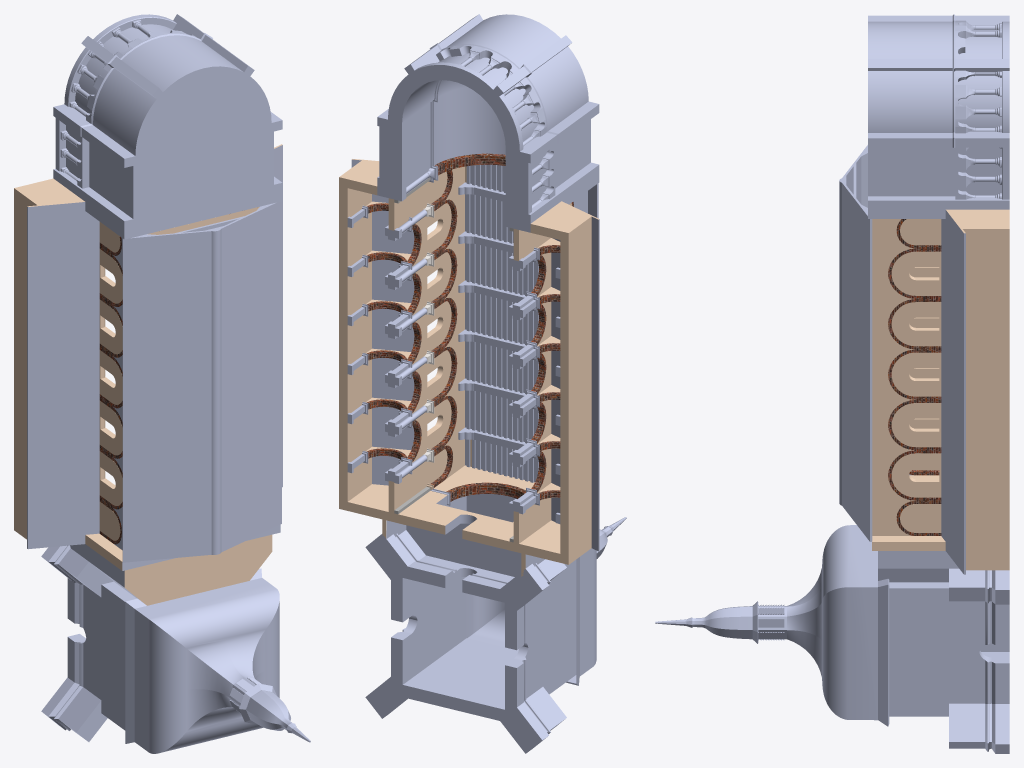
Rendered from main-opt.glb.
3 renders of one model, left to right at view 1: azimuth 30°, elevation 25°; view 2: azimuth 150°, elevation 25°; view 3: azimuth 270°, elevation 25°, orthographic. The views are drawn at different scales.
Bounding box in the file's own units: 29.01 × 75.27 × 35.
8 materials, 4 textured.
